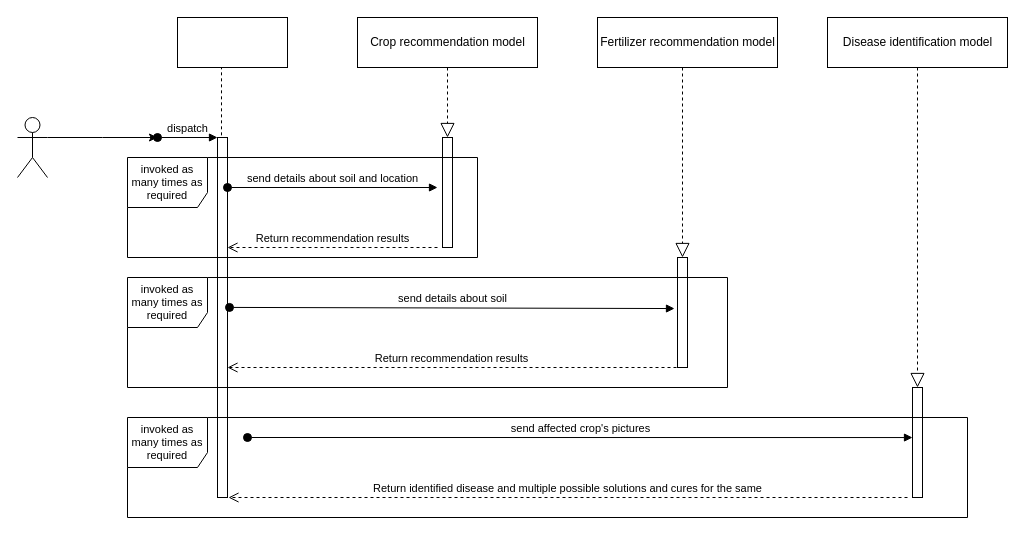
This 1025x535 diagram has some shape labels left out. Here are the shapes that lost their labels. From the top down, the centre of each, then its label:
(x=232, y=42): Interface
(x=32, y=147): Actor
